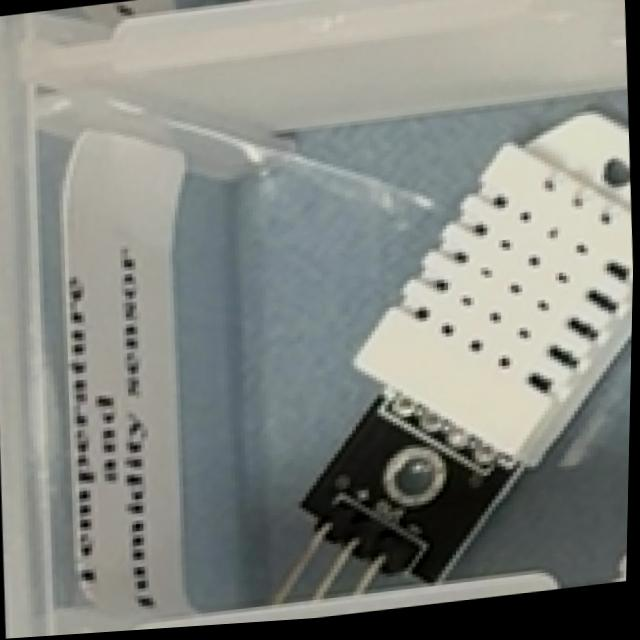Temperature And Humidity Sensor: (244, 103, 637, 623)
